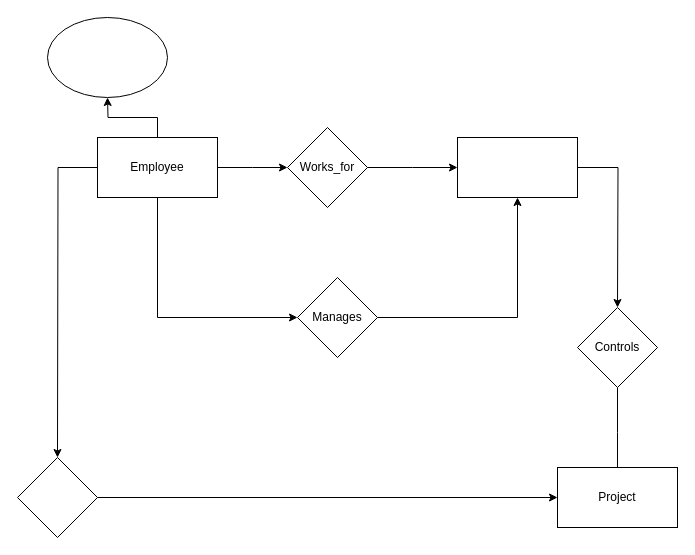
This 695x555 diagram has some shape labels left out. The shapes that lost their labels are listed below. From the top down, each one's centre as x and y in pixels, then its label:
At (x=107, y=57): "Name".
At (x=517, y=167): "Department".
At (x=57, y=497): "Works_On".
